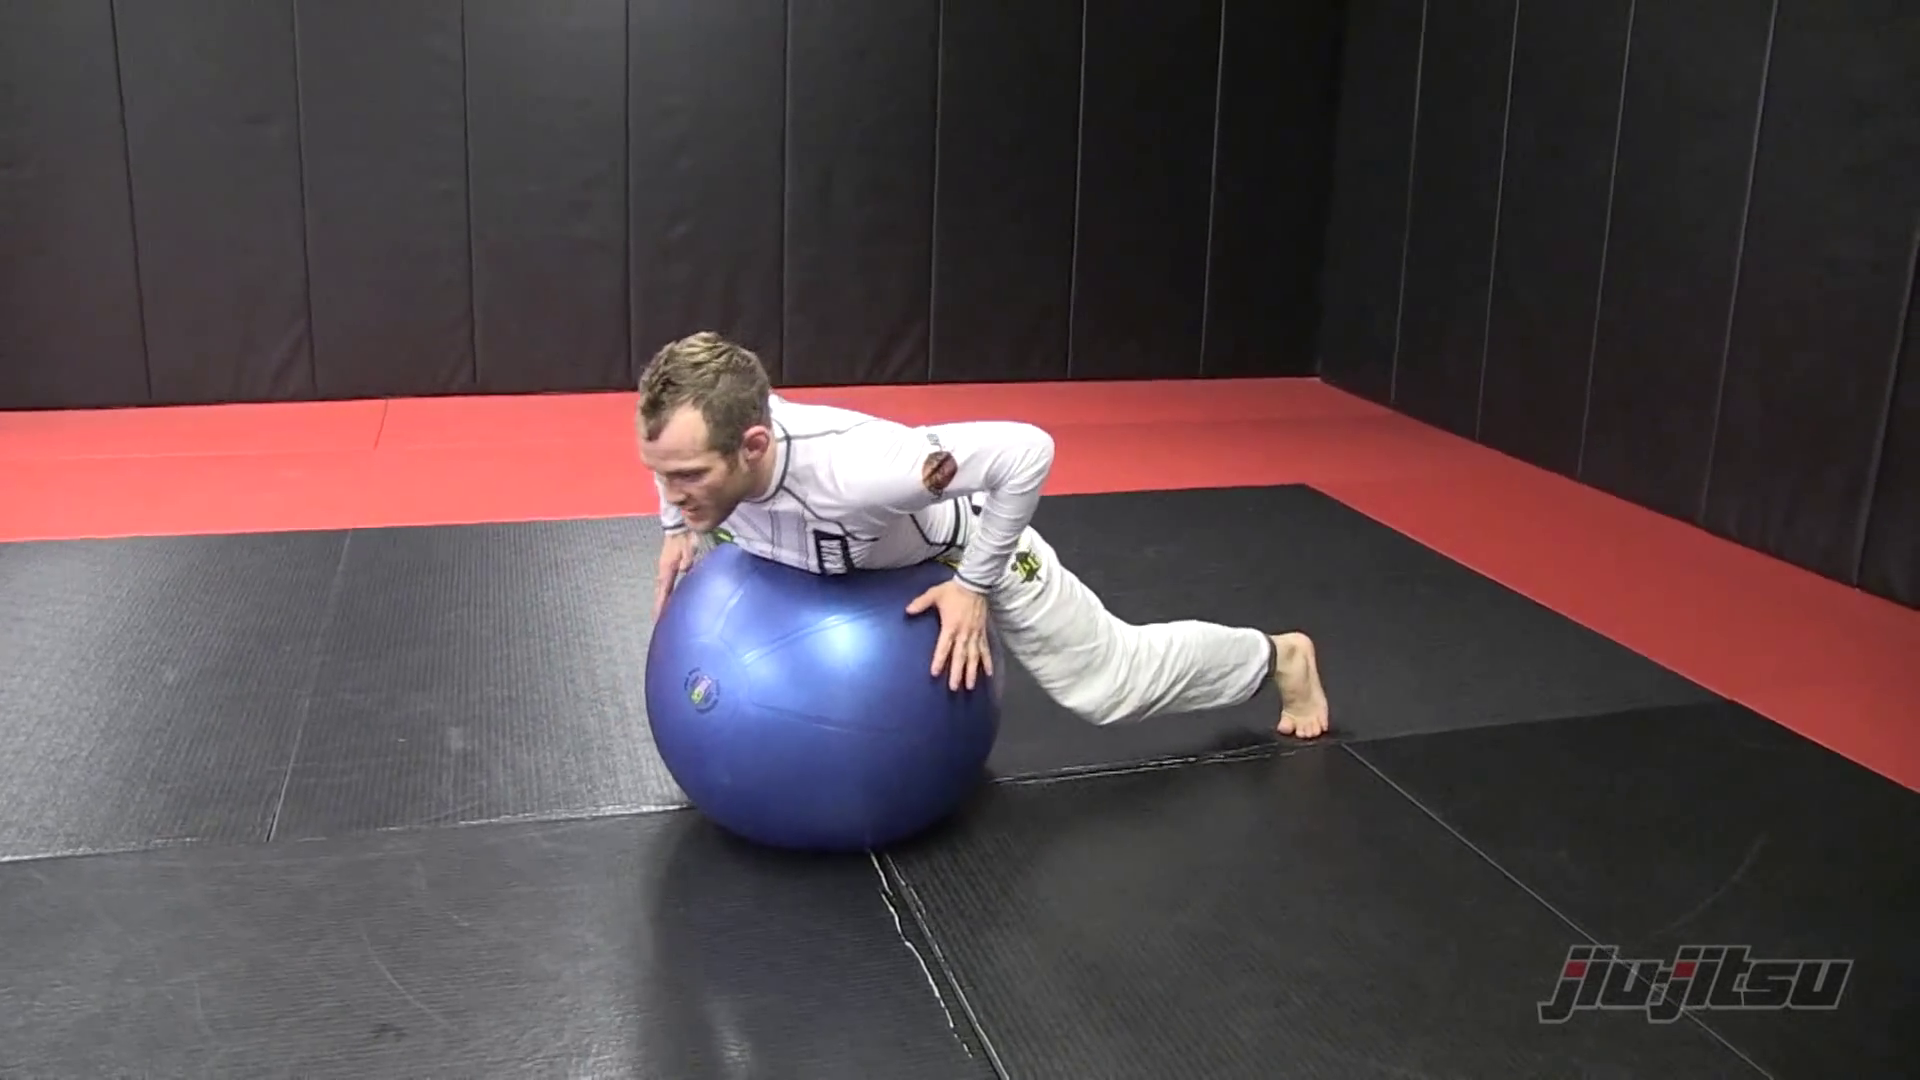yogaball: (608, 535, 1035, 870)
